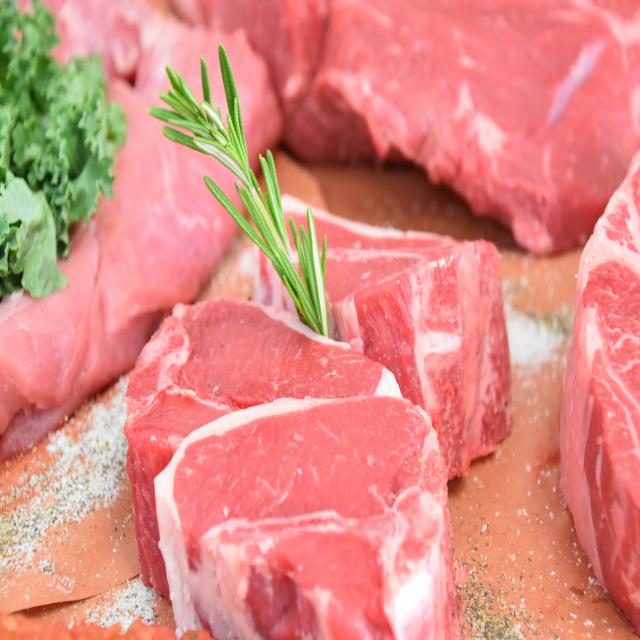pork: (119, 269, 465, 640)
